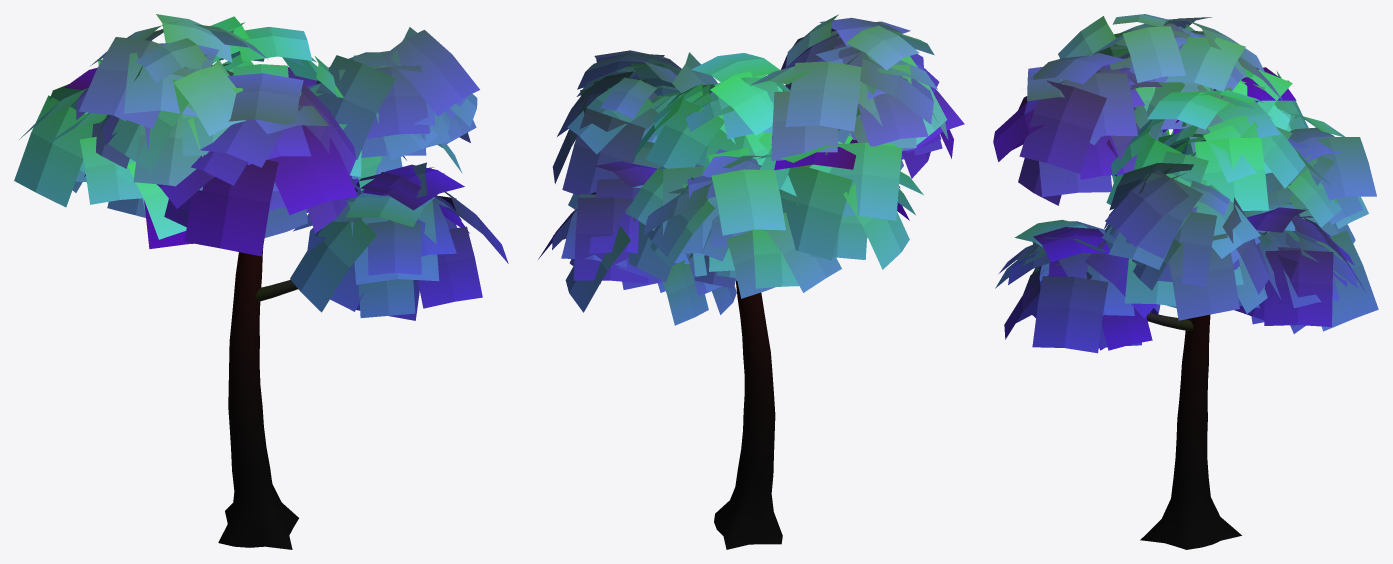
The model's file is Jungle0.fbx.
3 renders of one model, left to right at view 1: azimuth 30°, elevation 25°; view 2: azimuth 150°, elevation 25°; view 3: azimuth 270°, elevation 25°, orthographic. The views are drawn at different scales.
Visible parts, largest first — view 1: Jungle0; view 2: Jungle0; view 3: Jungle0.
Part boxes in pixels (x1,y1,x2,y2): Jungle0: [14, 14, 508, 549]; Jungle0: [538, 14, 964, 549]; Jungle0: [993, 14, 1378, 549].
Size of the model in its own units: 16.04 by 20.53 by 14.75.
